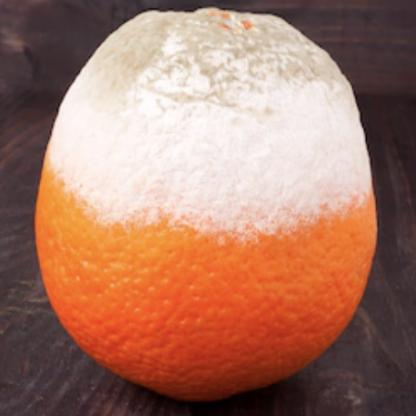rotten: (38, 8, 378, 399)
